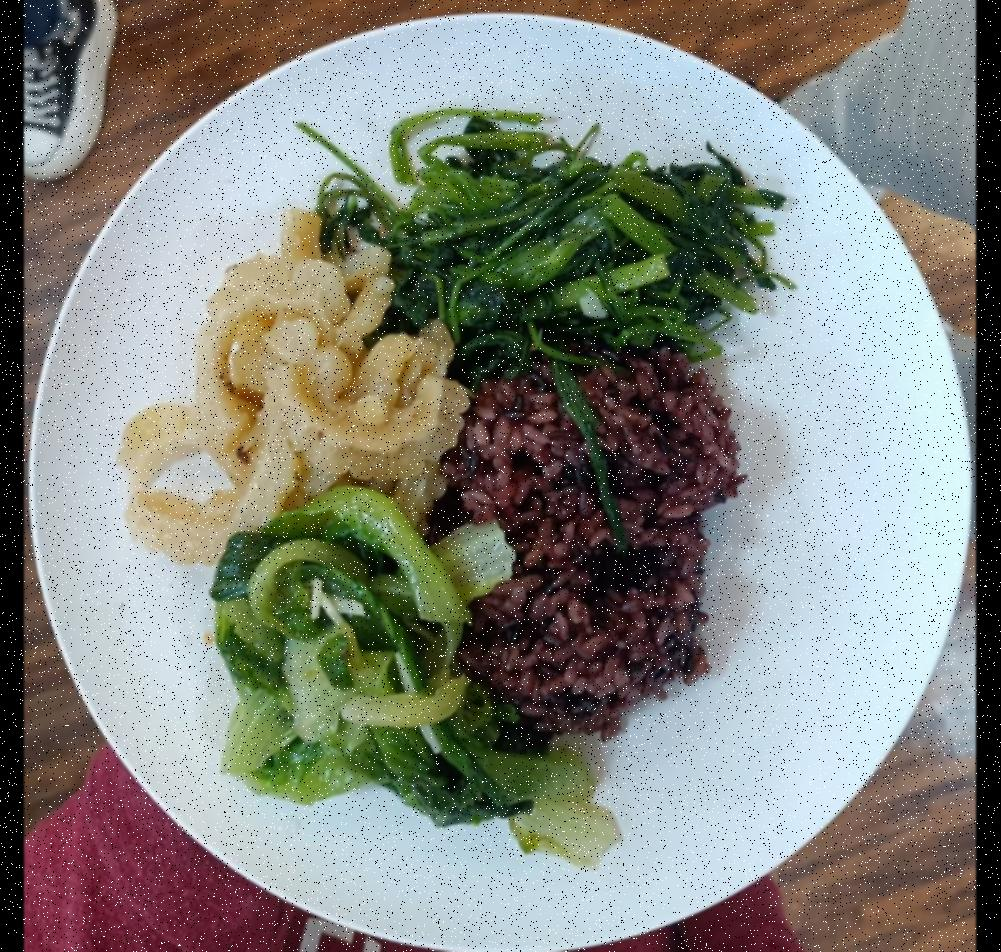plate: (28, 1, 976, 952)
purple rice: (425, 349, 734, 738)
side dish: (201, 494, 629, 869), (116, 214, 470, 566), (327, 106, 776, 365)
